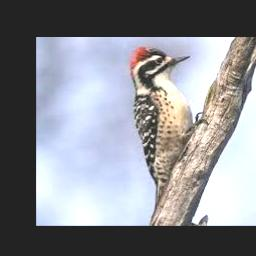Woodpecker: (127, 46, 208, 207)
